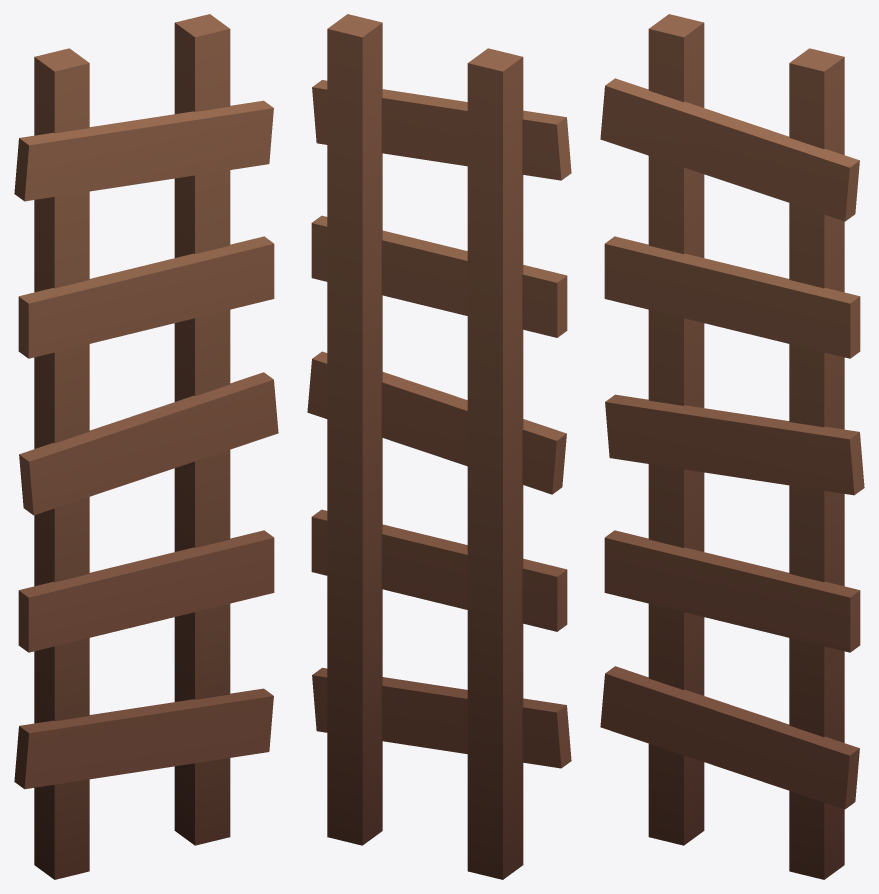
The model's file is ladder.glb.
3 renders of one model, left to right at view 1: azimuth 30°, elevation 25°; view 2: azimuth 150°, elevation 25°; view 3: azimuth 330°, elevation 25°, orthographic.
Visible parts, largest first — view 1: ladder; view 2: ladder; view 3: ladder.
Boxes of the visible parts, <box> form: ladder: <box>14,14,278,879</box>; ladder: <box>307,14,571,879</box>; ladder: <box>600,14,864,879</box>.
Size of the model in its own units: 0.9867 by 3 by 0.1978.
